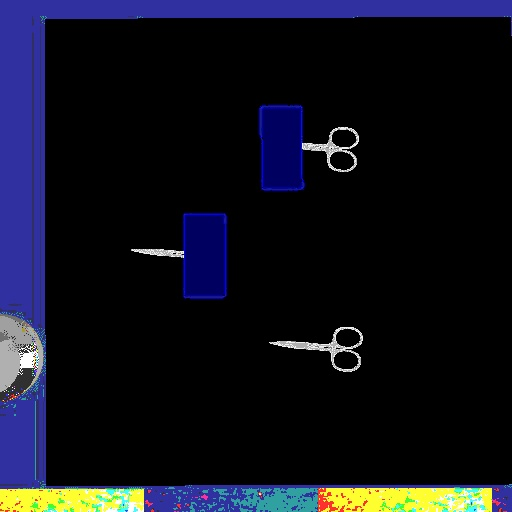tijera: (263, 318, 371, 379), (302, 120, 365, 178), (125, 240, 184, 267)
